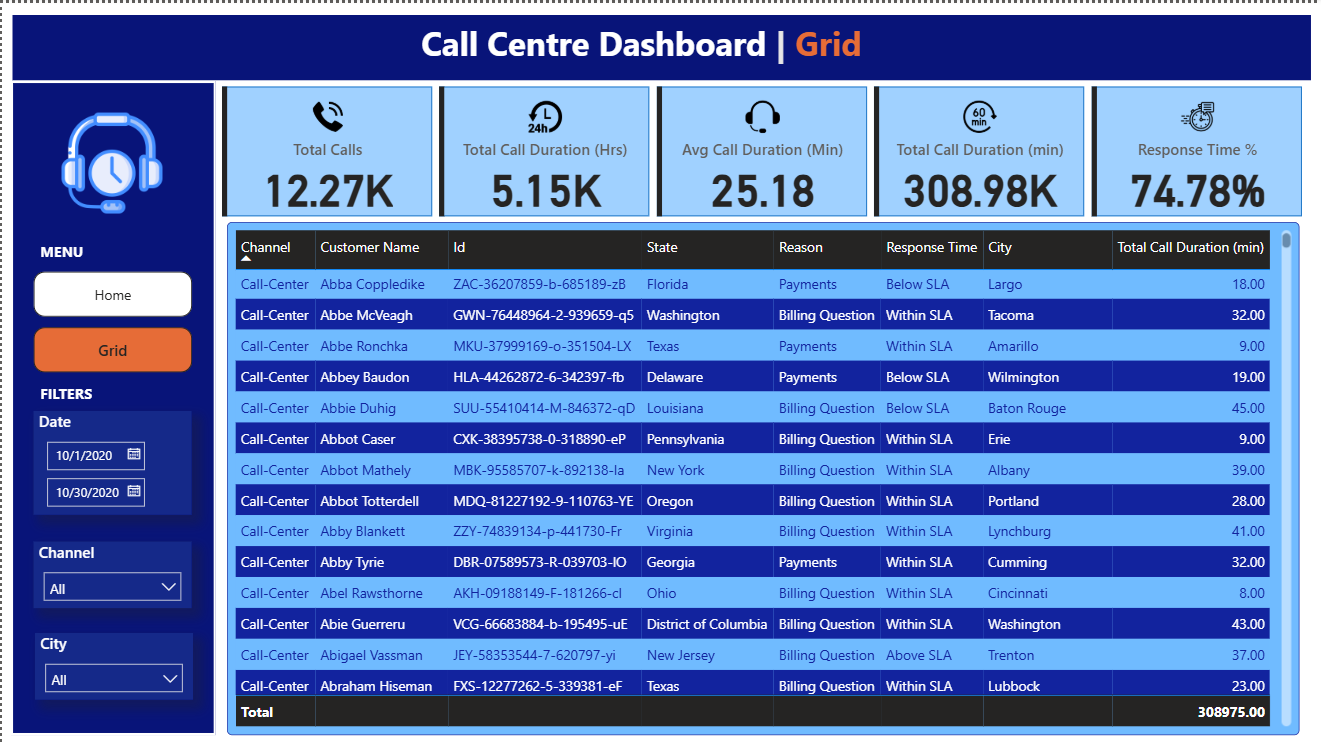

Layout of this report page (visuals, bound fields, positions):
{"tool":"powerbi","page":{"name":"Grid","canvas":[1280,720],"ordinal":1},"visuals":[{"type":"textbox","box":[9.7,11.3,1259.8,63.1],"z":0},{"type":"textbox","box":[9,75.2,198.5,634.7],"z":1000},{"type":"cardVisual","fields":{"Data":["call1.Total calls","Date Table.Total call Duration (Hrs)","Date Table.Avg Call Duration (Min)","call1.Total Call Duration (min)","Date Table.Response Time %"]},"box":[207.6,75.2,1061.9,136.9],"z":2000},{"type":"textbox","box":[401.6,11.3,476.1,61.5],"z":3000},{"type":"slicer","title":"Date","fields":{"Values":["Date Table.Date"]},"box":[30.1,395.6,153.4,100.8],"z":4000},{"type":"slicer","title":"Channel","fields":{"Values":["call1.Channel"]},"box":[30.1,521.9,153.4,64.7],"z":5000},{"type":"slicer","title":"City","fields":{"Values":["call1.City"]},"box":[31.6,610.7,153.4,64.7],"z":6000},{"type":"image","box":[52.6,99.3,108.3,112.8],"z":7000},{"type":"tableEx","fields":{"Values":["call1.Channel","call1.Customer Name","call1.Id","call1.State","call1.Reason","call1.Response Time","call1.City","call1.Total Call Duration (min)"]},"box":[218.1,212.1,1040.8,497.9],"z":8000},{"type":"pageNavigator","box":[30.1,260.2,154.9,99.3],"z":9000},{"type":"textbox","box":[31.6,225.6,61.7,34.6],"z":10000},{"type":"textbox","box":[31.6,364,84.2,28.6],"z":10001}]}

Visuals, with their boxes in screenshot pixels (x1, y1, x2, y2), scaled from the page's 1280x720 canvas onto the 1321x744 screenshot:
textbox: {"x1": 10, "y1": 12, "x2": 1310, "y2": 77}
textbox: {"x1": 9, "y1": 78, "x2": 214, "y2": 734}
cardVisual - call1.Total calls x Date Table.Total call Duration (Hrs): {"x1": 214, "y1": 78, "x2": 1310, "y2": 219}
textbox: {"x1": 414, "y1": 12, "x2": 906, "y2": 75}
"Date" slicer: {"x1": 31, "y1": 409, "x2": 189, "y2": 513}
"Channel" slicer: {"x1": 31, "y1": 539, "x2": 189, "y2": 606}
"City" slicer: {"x1": 33, "y1": 631, "x2": 191, "y2": 698}
image: {"x1": 54, "y1": 103, "x2": 166, "y2": 219}
tableEx - call1.Channel x call1.Customer Name: {"x1": 225, "y1": 219, "x2": 1299, "y2": 734}
pageNavigator: {"x1": 31, "y1": 269, "x2": 191, "y2": 371}
textbox: {"x1": 33, "y1": 233, "x2": 96, "y2": 269}
textbox: {"x1": 33, "y1": 376, "x2": 120, "y2": 406}
